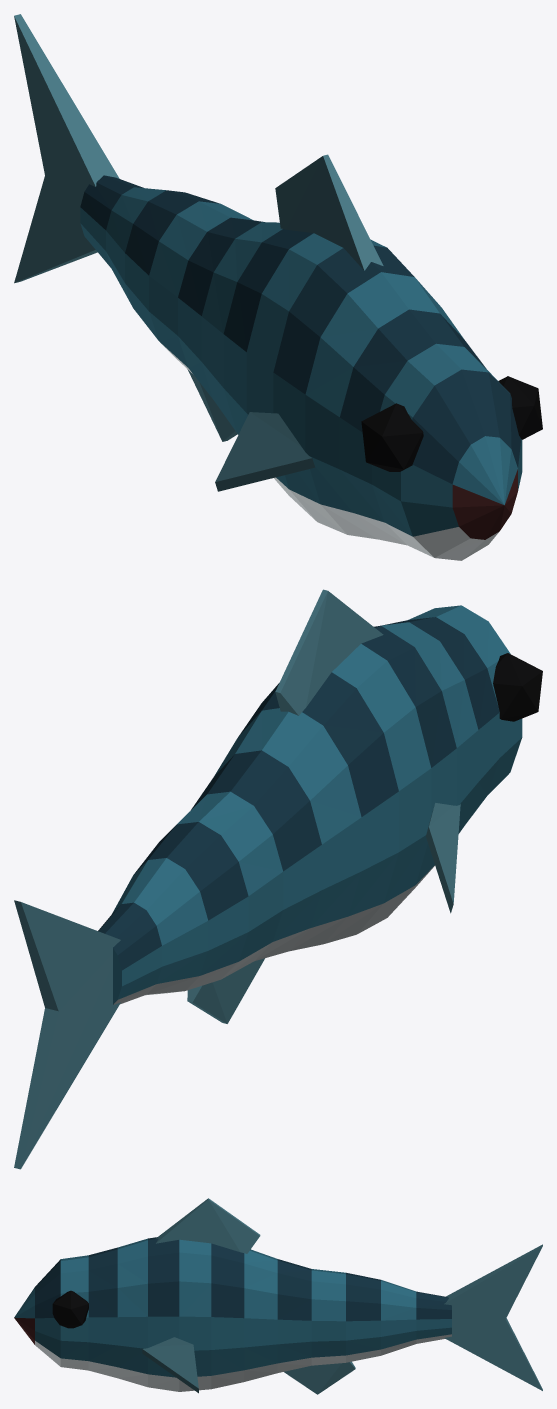
Rendered from FoeRunner.obj.
The picture shows the model from 3 angles, top to bottom: view 1: azimuth 30°, elevation 25°; view 2: azimuth 150°, elevation 25°; view 3: azimuth 270°, elevation 25°; orthographic projection. The views are drawn at different scales.
Visible parts, largest first — view 1: FoeRunner; view 2: FoeRunner; view 3: FoeRunner.
Part boxes in pixels (left/top/right/bottom): FoeRunner: left=14, top=14, right=542, bottom=560; FoeRunner: left=14, top=589, right=542, bottom=1169; FoeRunner: left=14, top=1198, right=542, bottom=1394.
Size of the model in its own units: 0.2799 by 0.4034 by 0.99.
